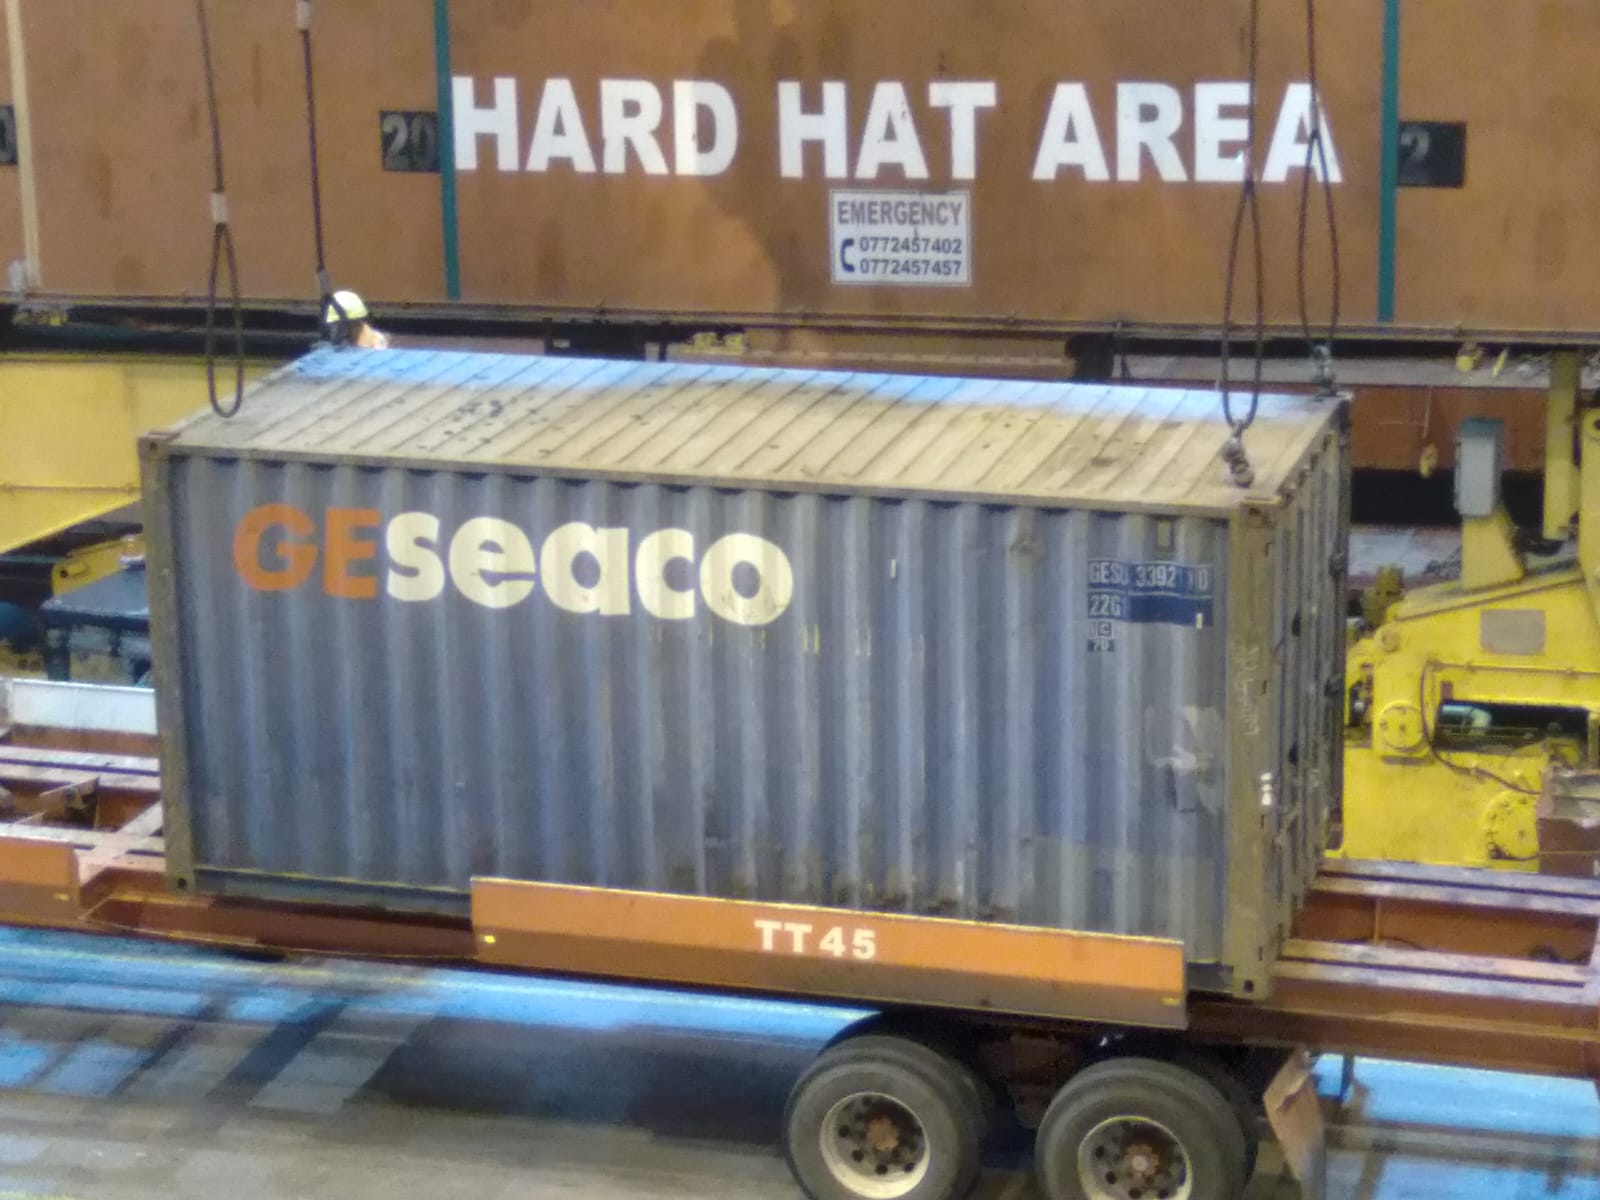bulged: (697, 821, 1018, 920)
